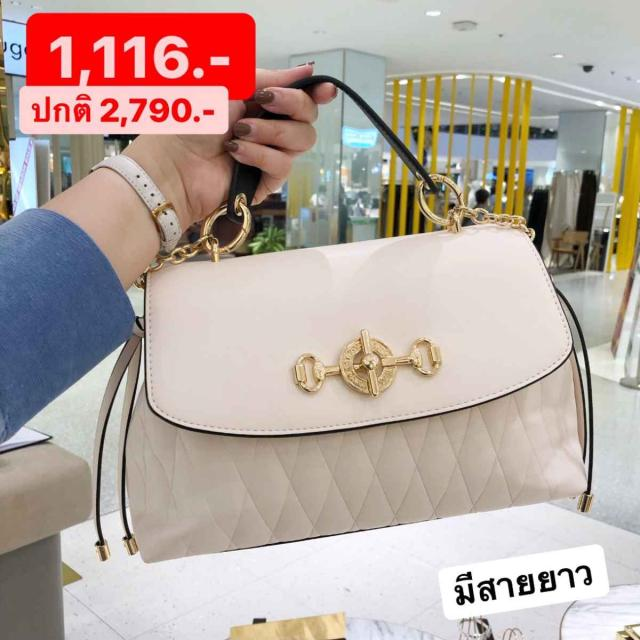Handbag: (101, 200, 588, 574)
